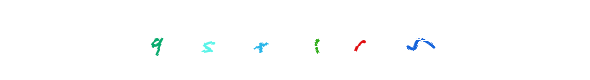5: (379, 0, 459, 80)
Q: (166, 0, 246, 80)
R: (255, 0, 335, 80), (319, 0, 399, 80)
S: (212, 0, 292, 80)
X: (217, 0, 297, 80)
